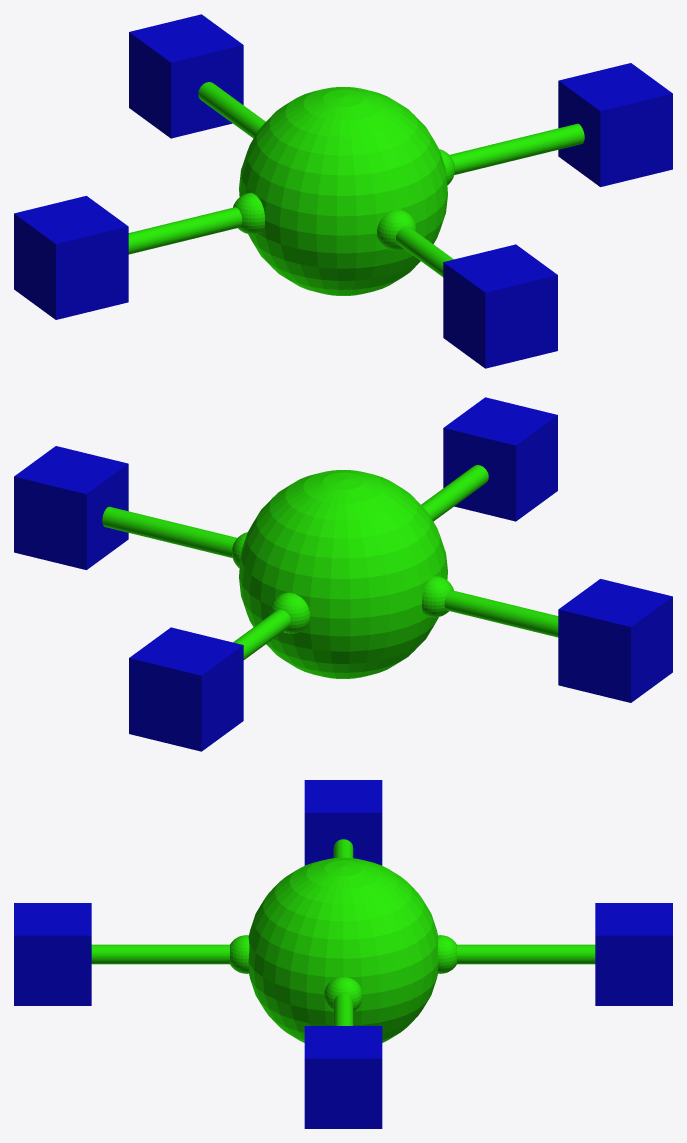
The model's file is testHierarchi2.fbx.
3 renders of one model, top to bottom at view 1: azimuth 30°, elevation 25°; view 2: azimuth 150°, elevation 25°; view 3: azimuth 270°, elevation 25°, orthographic. The views are drawn at different scales.
Visible parts, largest first — view 1: CenterSphere, cube01, cube01.002, cube01.003, cube01.001, sylinder01.002, sylinder01.003, sylinder01, sylinder01.001, CenterSphere.004, StaticCenterSphere.003; view 2: CenterSphere, cube01.001, cube01.002, cube01.003, cube01, sylinder01.002, sylinder01.003, sylinder01.001, sylinder01, StaticStaticCenterSphere.002, StaticCenterSphere.003; view 3: CenterSphere, cube01.003, cube01, cube01.001, cube01.002, sylinder01.001, sylinder01, StaticSphere.001, CenterSphere.004, StaticStaticCenterSphere.002, sylinder01.002.
Part boxes in pixels (x1,y1,x2,y2): CenterSphere: (239,87,447,295); cube01: (443,244,557,368); cube01.002: (14,196,128,319); cube01.003: (558,63,672,186); cube01.001: (129,14,243,138); sylinder01.002: (449,123,584,174); sylinder01.003: (128,207,242,254); sylinder01: (198,82,265,138); sylinder01.001: (396,226,453,276); CenterSphere.004: (377,209,416,250); StaticCenterSphere.003: (233,192,264,234); CenterSphere: (239,470,447,678); cube01.001: (129,627,243,751); cube01.002: (558,579,672,702); cube01.003: (14,446,128,569); cube01: (443,397,557,521); sylinder01.002: (102,506,237,557); sylinder01.003: (444,590,558,637); sylinder01.001: (421,465,488,521); sylinder01: (233,609,290,659); StaticStaticCenterSphere.002: (270,592,309,633); StaticCenterSphere.003: (422,575,453,617); CenterSphere: (248,857,438,1042); cube01.003: (304,1026,382,1128); cube01: (14,903,91,1005); cube01.001: (595,903,672,1005); cube01.002: (304,780,382,865); sylinder01.001: (91,944,229,964); sylinder01: (457,944,595,964); StaticSphere.001: (324,977,362,1011); CenterSphere.004: (230,935,249,973); StaticStaticCenterSphere.002: (437,935,456,973); sylinder01.002: (333,993,353,1025).
Size of the model in its own units: 340 by 100 by 340.
